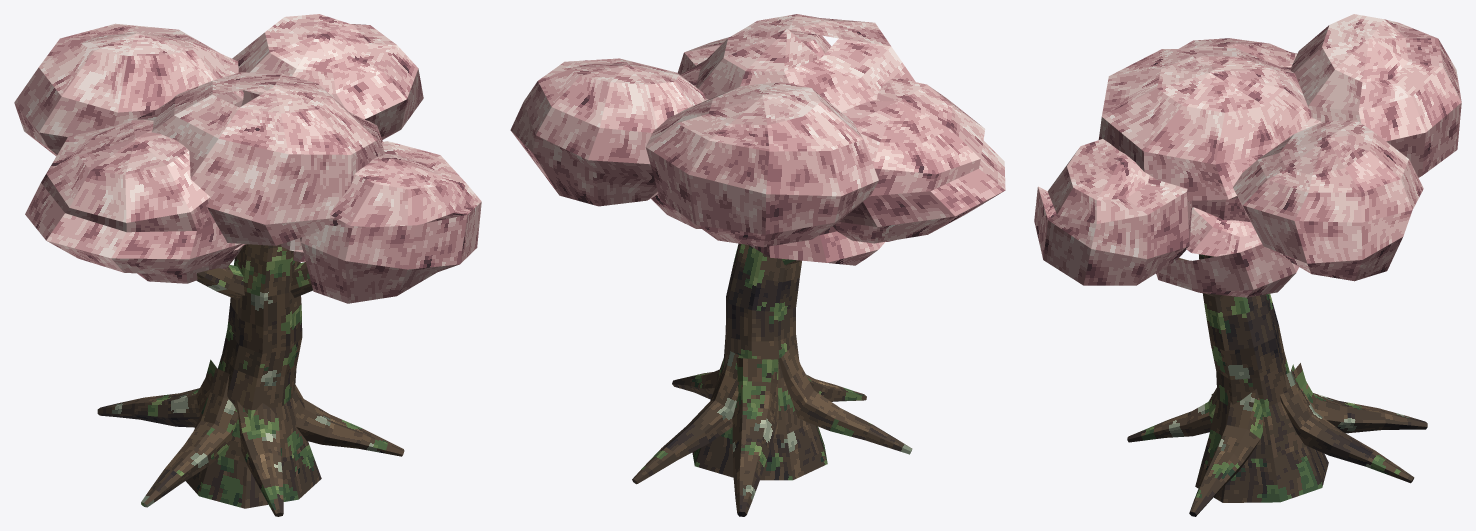
File: blossom.glb
3 views of the same model, side by side, from view 1: azimuth 30°, elevation 25°; view 2: azimuth 150°, elevation 25°; view 3: azimuth 270°, elevation 25° (orthographic).
Parts seen in each view (by area): view 1: crown_30, crown_16, crown_21, crown_11, trunk_1, crown_26, root_6, root_5, root_2, root_4, limb_12, crown_32 (+1 smaller); view 2: crown_11, crown_26, crown_16, crown_30, trunk_1, root_2, root_3, root_6, crown_32, crown_21, root_4, root_5; view 3: crown_30, crown_26, crown_11, crown_21, trunk_1, crown_31, root_3, root_4, root_2, crown_16, root_5.
Boxes of the visible parts, left/top/right/bottom form: crown_30: left=137, top=72, right=384, bottom=245; crown_16: left=25, top=119, right=242, bottom=274; crown_21: left=300, top=141, right=481, bottom=303; crown_11: left=14, top=23, right=243, bottom=156; trunk_1: left=186, top=244, right=321, bottom=508; crown_26: left=232, top=14, right=423, bottom=139; root_6: left=141, top=368, right=238, bottom=507; root_5: left=237, top=400, right=283, bottom=516; root_2: left=97, top=359, right=216, bottom=427; root_4: left=292, top=385, right=404, bottom=456; limb_12: left=196, top=265, right=244, bottom=299; crown_32: left=137, top=244, right=245, bottom=283; crown_11: left=645, top=82, right=878, bottom=247; crown_26: left=510, top=58, right=705, bottom=206; crown_16: left=833, top=77, right=1005, bottom=243; crown_30: left=680, top=14, right=915, bottom=112; trunk_1: left=692, top=243, right=827, bottom=480; root_2: left=732, top=357, right=778, bottom=516; root_3: left=632, top=350, right=746, bottom=484; root_6: left=777, top=345, right=912, bottom=454; crown_32: left=750, top=226, right=885, bottom=265; crown_21: left=677, top=29, right=831, bottom=74; root_4: left=672, top=358, right=723, bottom=399; root_5: left=801, top=366, right=866, bottom=401; crown_30: left=1098, top=48, right=1321, bottom=222; crown_26: left=1233, top=120, right=1423, bottom=281; crown_11: left=1290, top=14, right=1461, bottom=177; crown_21: left=1034, top=139, right=1192, bottom=285; trunk_1: left=1195, top=254, right=1328, bottom=502; crown_31: left=1156, top=207, right=1298, bottom=297; root_3: left=1280, top=364, right=1414, bottom=483; root_4: left=1189, top=389, right=1262, bottom=516; root_2: left=1292, top=363, right=1427, bottom=433; crown_16: left=1179, top=38, right=1296, bottom=71; root_5: left=1127, top=388, right=1217, bottom=442.
Bounding box in the file's own units: 51.53 × 48.8 × 45.78.
1 material, 1 textured.
